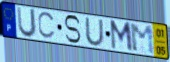C: (37, 12, 57, 41)
M: (128, 23, 157, 56), (108, 19, 134, 54)
S: (63, 14, 82, 45)
U: (16, 6, 38, 40), (84, 17, 106, 48)
